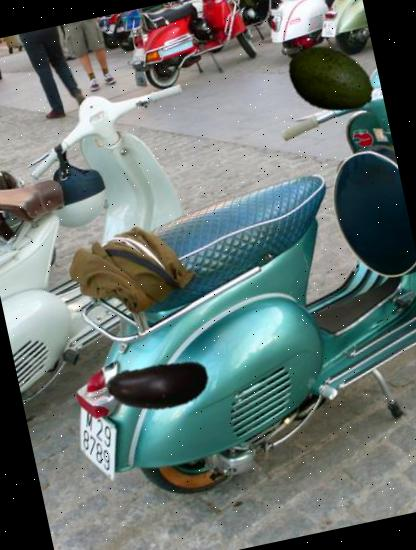Avocado: (277, 28, 384, 135)
Eggplant: (95, 323, 221, 449)
